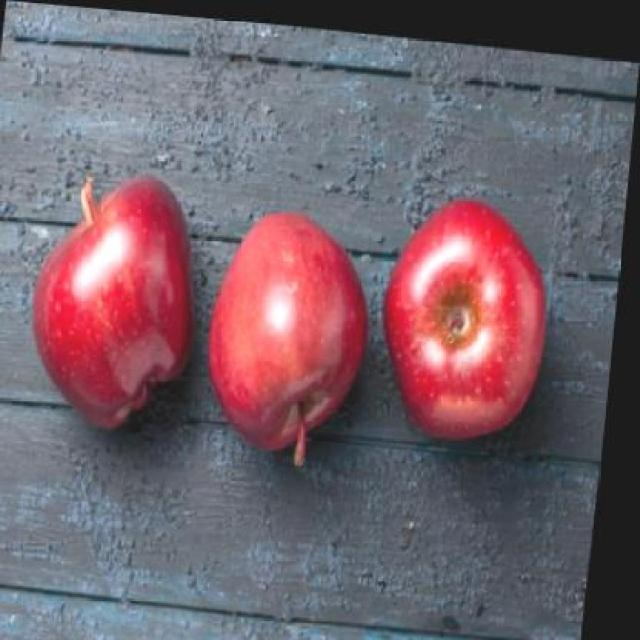Fresh Apple: (40, 192, 197, 417), (397, 208, 549, 432), (226, 229, 368, 445)
